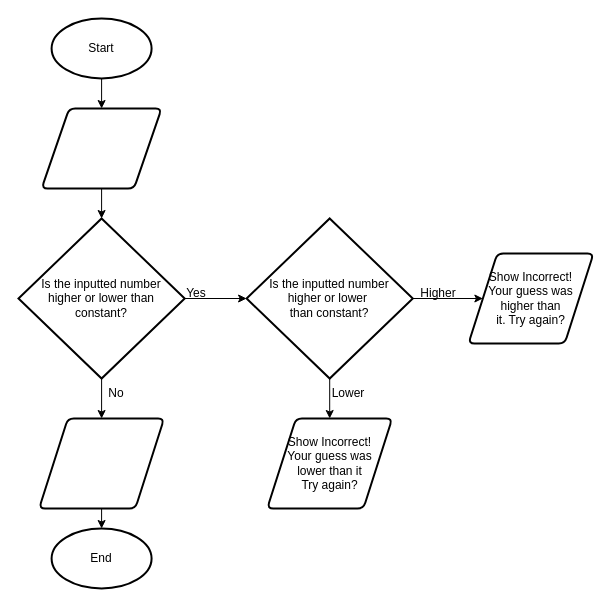
This 611x606 diagram has some shape labels left out. Each missing label, with the centre of its shape:
Get Inputted number: the point at 101,148
Show Correct! You guessed the right number!: the point at 101,463
